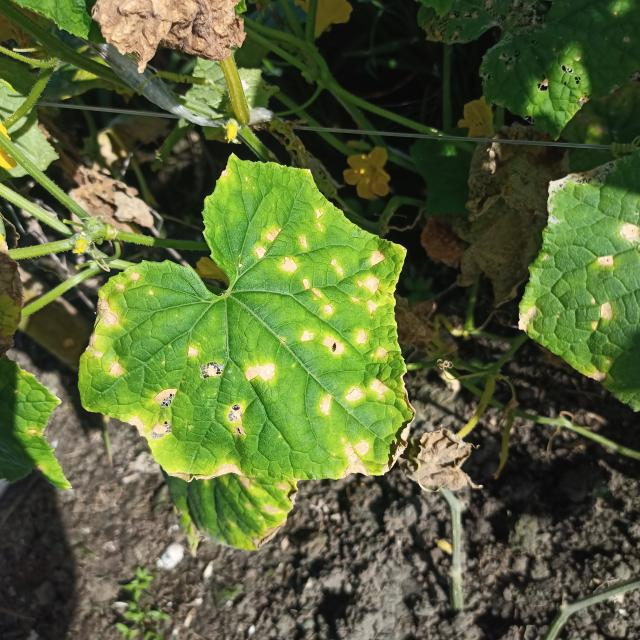disease_cucumber: (90, 204, 400, 476)
